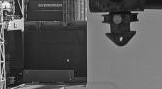twist_lock_2: (98, 8, 143, 52)
